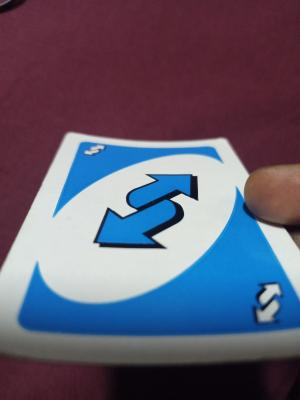blue: (75, 141, 235, 346)
reverse: (249, 279, 288, 330), (80, 142, 107, 160)
